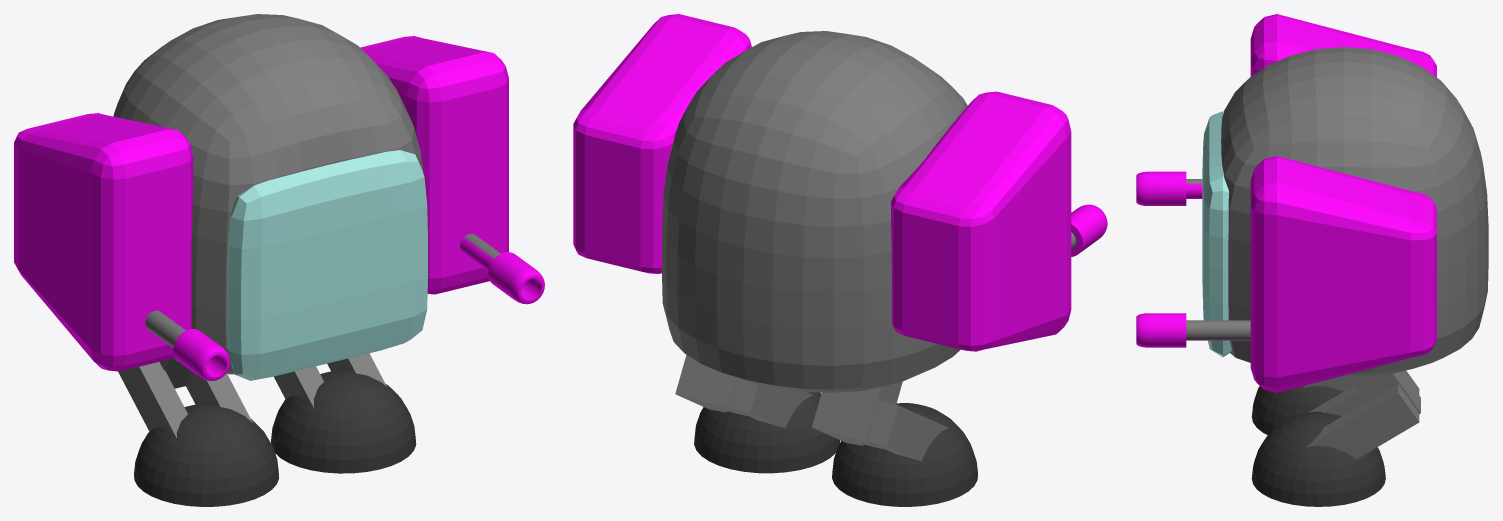
The model's file is Goli.fbx.
3 views of the same model, side by side, from view 1: azimuth 30°, elevation 25°; view 2: azimuth 150°, elevation 25°; view 3: azimuth 270°, elevation 25° (orthographic). The views are drawn at different scales.
Parts seen in each view (by area): view 1: Cube.040, Cube.038, Cube.039, Cube.041, Cube.043, Cylinder.011, Cube.042; view 2: Cube.038, Cube.040, Cube.041, Cube.043, Cube.042, Cylinder.011; view 3: Cube.040, Cube.038, Cube.041, Cube.043, Cube.039, Cylinder.011, Cube.042.
Part boxes in pixels (x1,y1,x2,y2): Cube.040: (14,36,508,371); Cube.038: (113,14,423,374); Cube.039: (227,150,428,380); Cube.041: (134,370,416,506); Cube.043: (118,353,386,438); Cylinder.011: (145,234,544,380); Cube.042: (159,358,192,388); Cube.038: (661,31,967,392); Cube.040: (573,14,1071,351); Cube.041: (694,392,977,506); Cube.043: (675,355,948,461); Cube.042: (694,365,902,449); Cylinder.011: (1071,204,1107,256); Cube.040: (1250,14,1436,392); Cube.038: (1221,47,1488,377); Cube.041: (1251,385,1385,506); Cube.043: (1303,370,1419,459); Cube.039: (1202,111,1231,357); Cylinder.011: (1136,171,1250,347); Cube.042: (1349,371,1420,413).
Bounding box in the file's own units: 193 × 187 × 155.
